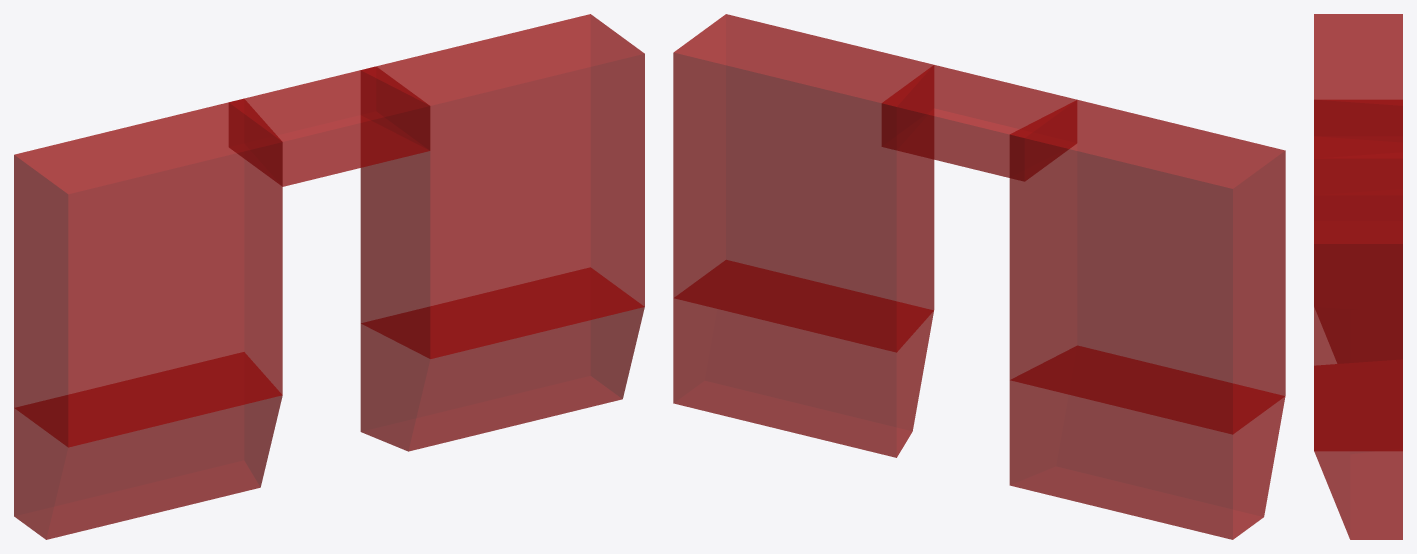
File: SM_Bld_ShopFront_02_Collision.fbx
3 renders of one model, left to right at view 1: azimuth 30°, elevation 25°; view 2: azimuth 150°, elevation 25°; view 3: azimuth 270°, elevation 25°, orthographic. The views are drawn at different scales.
Visible parts, largest first — view 1: SM_Bld_ShopFront_02_Collision; view 2: SM_Bld_ShopFront_02_Collision; view 3: SM_Bld_ShopFront_02_Collision.
Boxes of the visible parts, x1,y1,x2,y2 form: SM_Bld_ShopFront_02_Collision: [14, 14, 644, 539]; SM_Bld_ShopFront_02_Collision: [673, 14, 1285, 539]; SM_Bld_ShopFront_02_Collision: [1314, 14, 1402, 539].
Bounding box in the file's own units: 500 × 300 × 81.5.
